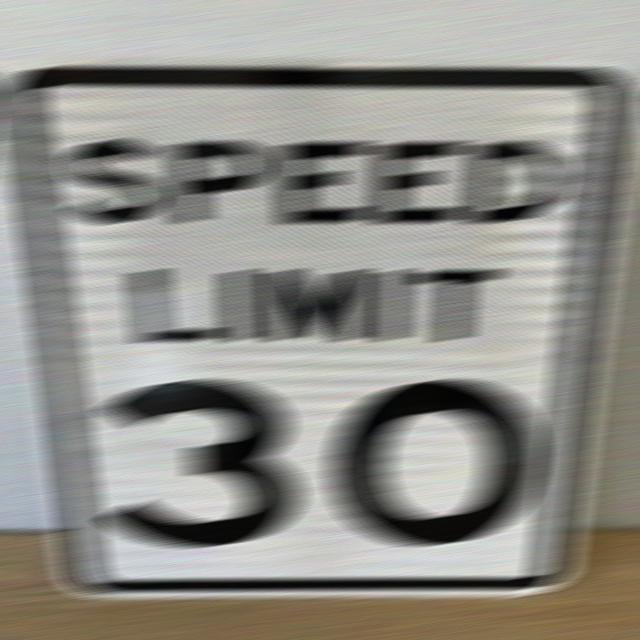speedLimit30: (0, 60, 638, 598)
